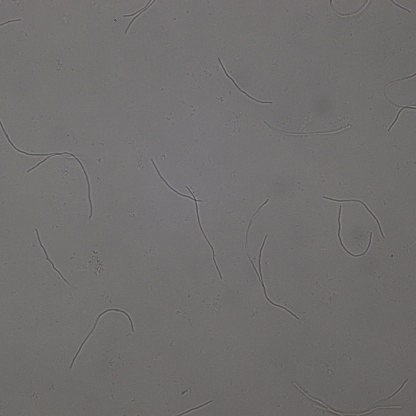Sensitive: (1, 122, 94, 217), (245, 199, 298, 319), (291, 377, 409, 414), (69, 307, 136, 369), (187, 186, 222, 279), (218, 58, 272, 107), (324, 195, 385, 237), (150, 160, 203, 204), (36, 230, 72, 287), (383, 73, 416, 135), (336, 205, 373, 257), (264, 117, 352, 135), (123, 1, 155, 35)
